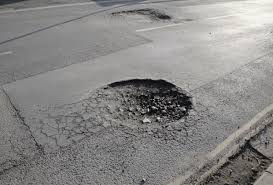pothole: (99, 77, 191, 127), (216, 135, 269, 179), (112, 5, 170, 24)
